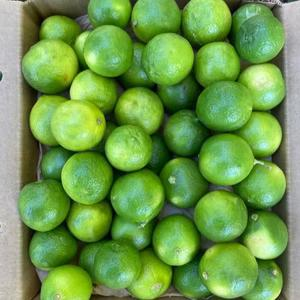lime: (195, 133, 257, 192), (199, 243, 260, 300), (188, 188, 250, 242), (110, 169, 165, 228), (22, 38, 75, 95), (196, 80, 255, 131), (51, 100, 107, 153), (80, 25, 134, 77), (142, 32, 194, 84), (57, 151, 110, 202), (94, 239, 140, 293), (235, 16, 285, 63), (152, 215, 199, 264), (106, 125, 154, 168)
